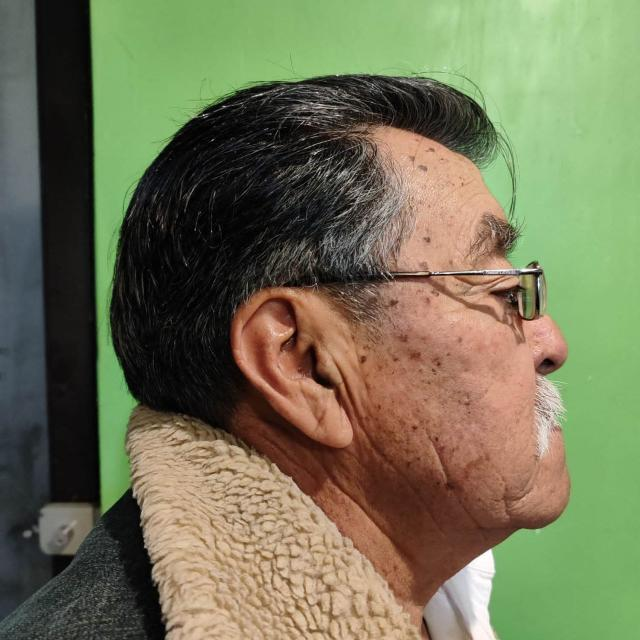ear: (231, 288, 352, 448)
